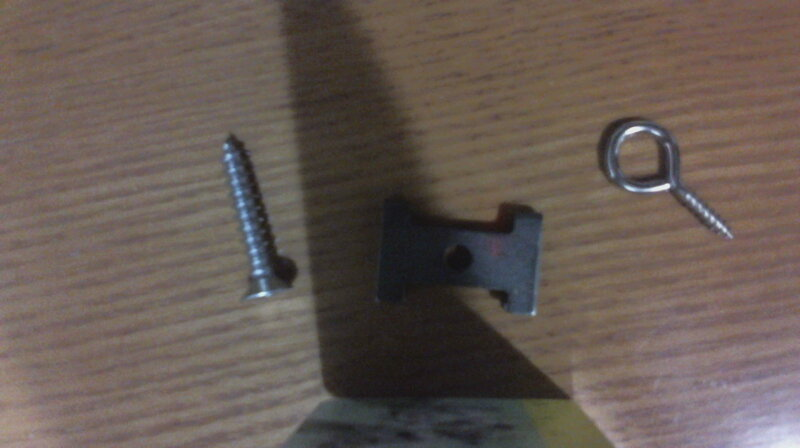O001: (596, 118, 739, 246)
O002: (373, 193, 546, 319)
S001: (216, 127, 302, 310)
